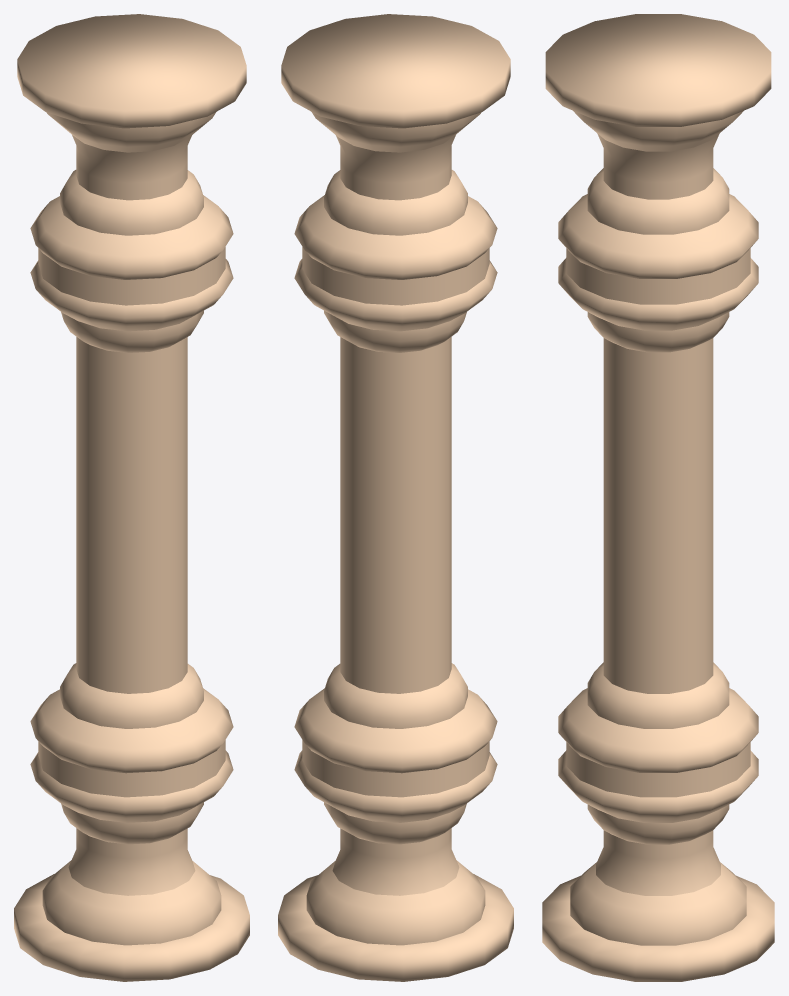
The model's file is PillarA.fbx.
3 renders of one model, left to right at view 1: azimuth 30°, elevation 25°; view 2: azimuth 150°, elevation 25°; view 3: azimuth 270°, elevation 25°, orthographic.
Parts seen in each view (by area): view 1: Cylinder.002; view 2: Cylinder.002; view 3: Cylinder.002.
Part boxes in pixels (x1,y1,x2,y2): Cylinder.002: (14, 14, 249, 981); Cylinder.002: (278, 14, 513, 981); Cylinder.002: (542, 14, 774, 981).
Bounding box in the file's own units: 259 × 1071 × 259.
